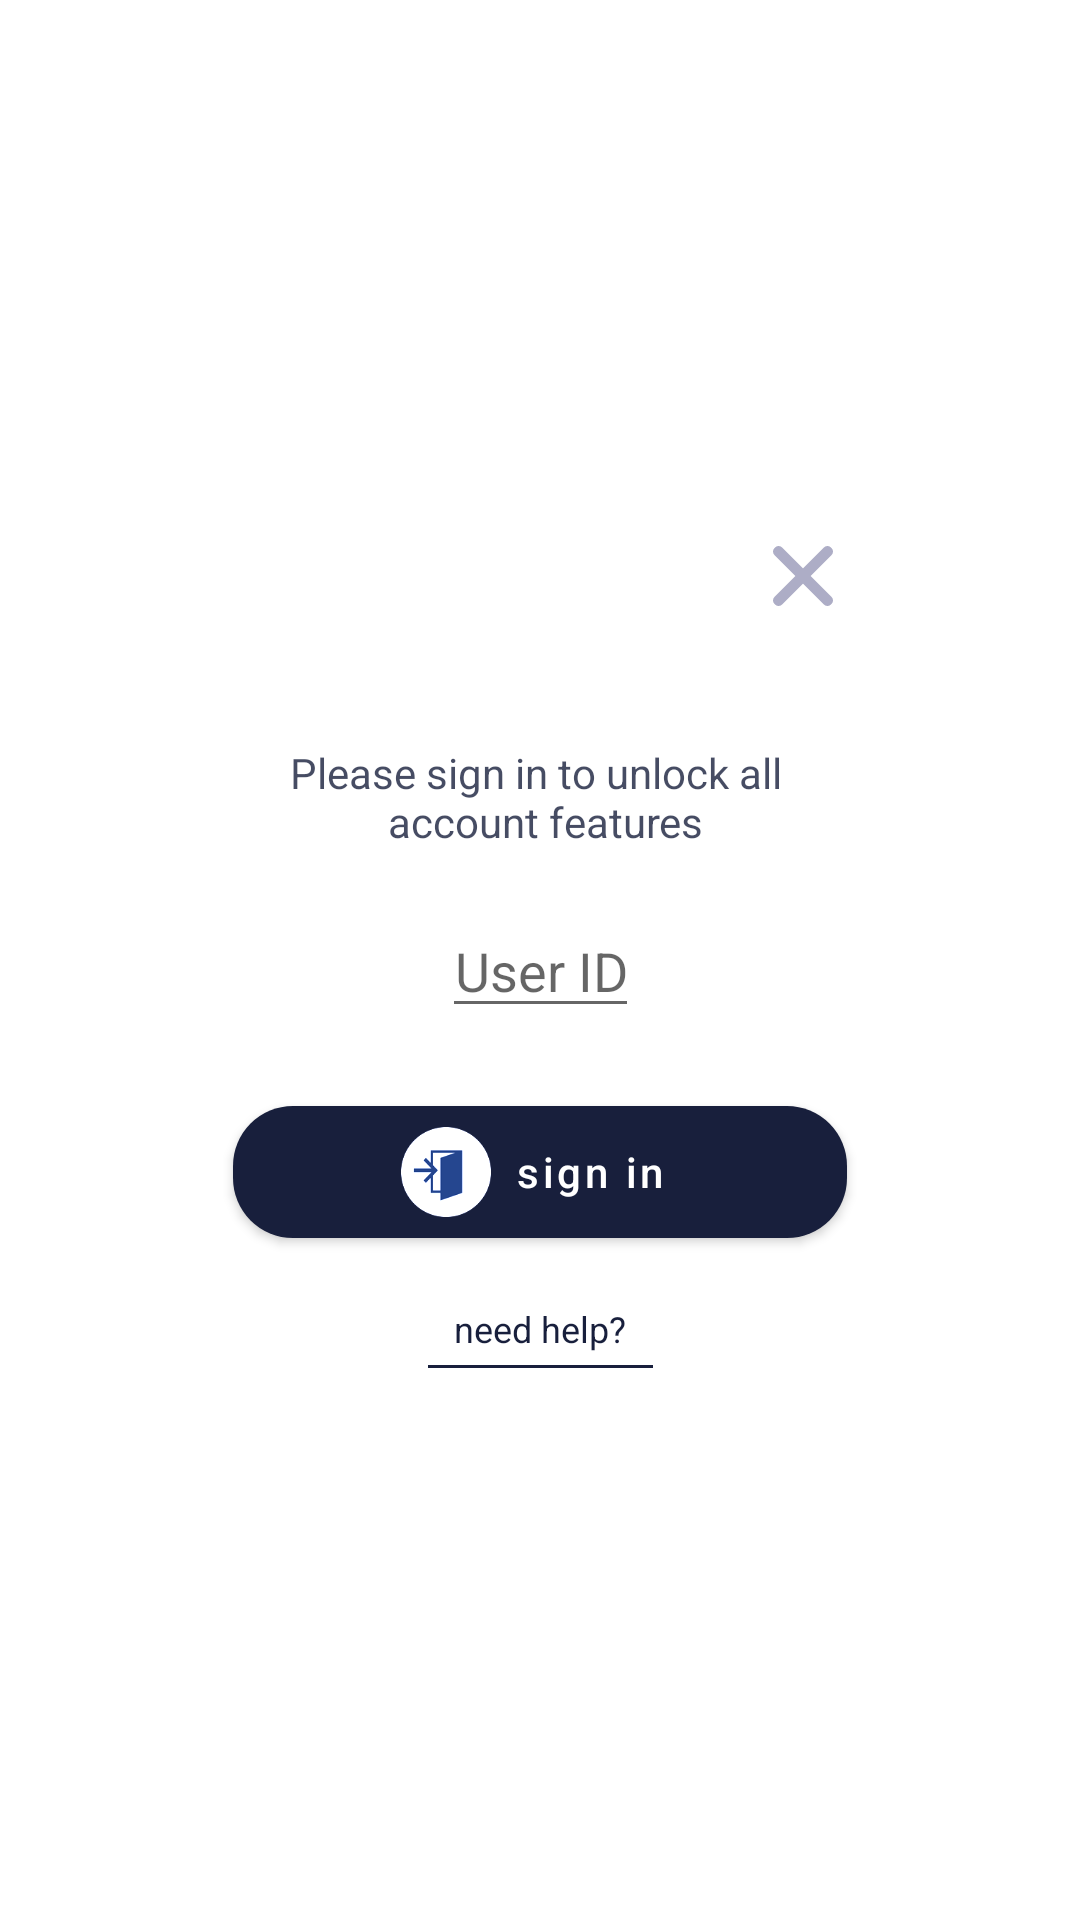

Icons on this 1080x1920 Android screen, each with the point to tap as point (x, y):
close: point (803, 576)
